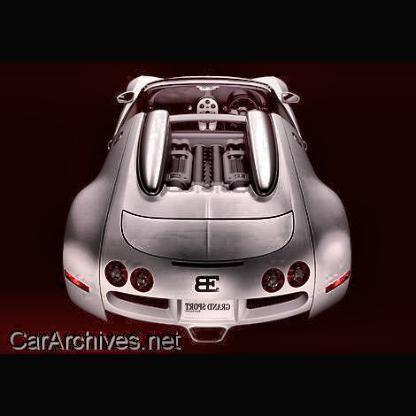Bugatti Veyron 16-4 Convertible 2009: (64, 77, 354, 346)
